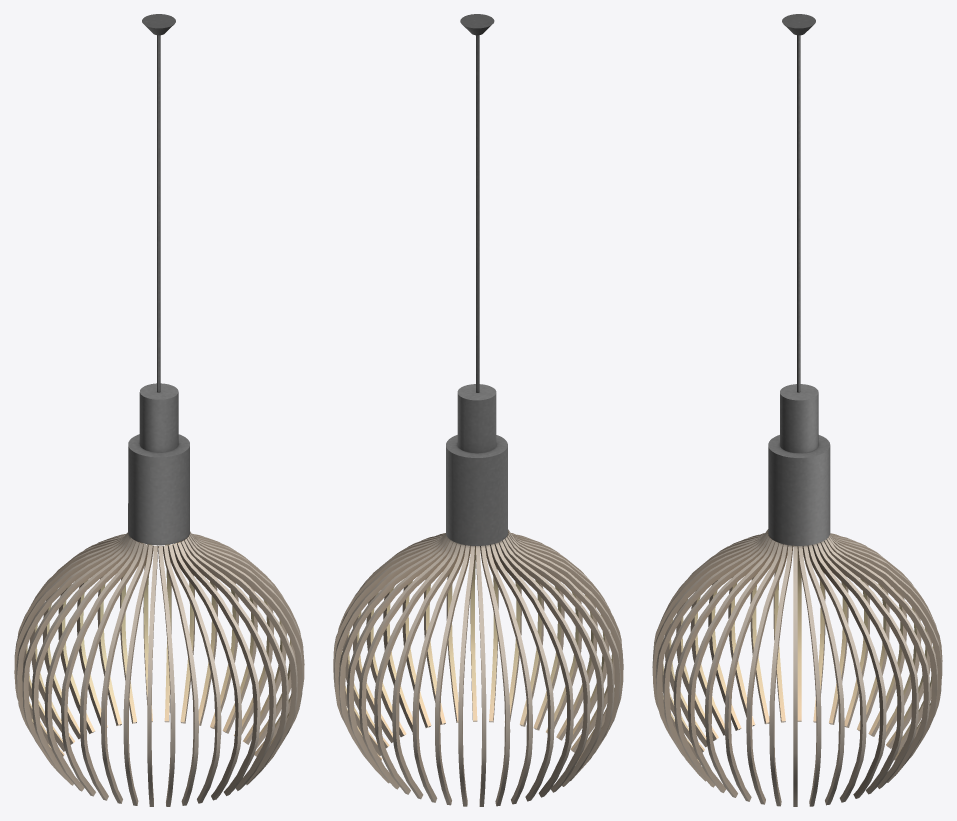
File: raw_model.obj
3 renders of one model, left to right at view 1: azimuth 30°, elevation 25°; view 2: azimuth 150°, elevation 25°; view 3: azimuth 270°, elevation 25°, orthographic.
Visible parts, largest first — view 1: solid_003, solid_004, solid_002; view 2: solid_003, solid_004, solid_002; view 3: solid_003, solid_004, solid_002.
Boxes of the visible parts, x1=… form: solid_003: x1=14, y1=531, x2=304, y2=806; solid_004: x1=128, y1=383, x2=189, y2=545; solid_002: x1=142, y1=14, x2=175, y2=392; solid_003: x1=333, y1=529, x2=623, y2=806; solid_004: x1=446, y1=384, x2=507, y2=545; solid_002: x1=460, y1=14, x2=494, y2=392; solid_003: x1=652, y1=529, x2=942, y2=806; solid_004: x1=768, y1=384, x2=830, y2=545; solid_002: x1=782, y1=14, x2=815, y2=392.
Size of the model in its own units: 0.4448 by 1.26 by 0.4444.
1 material, 1 textured.
